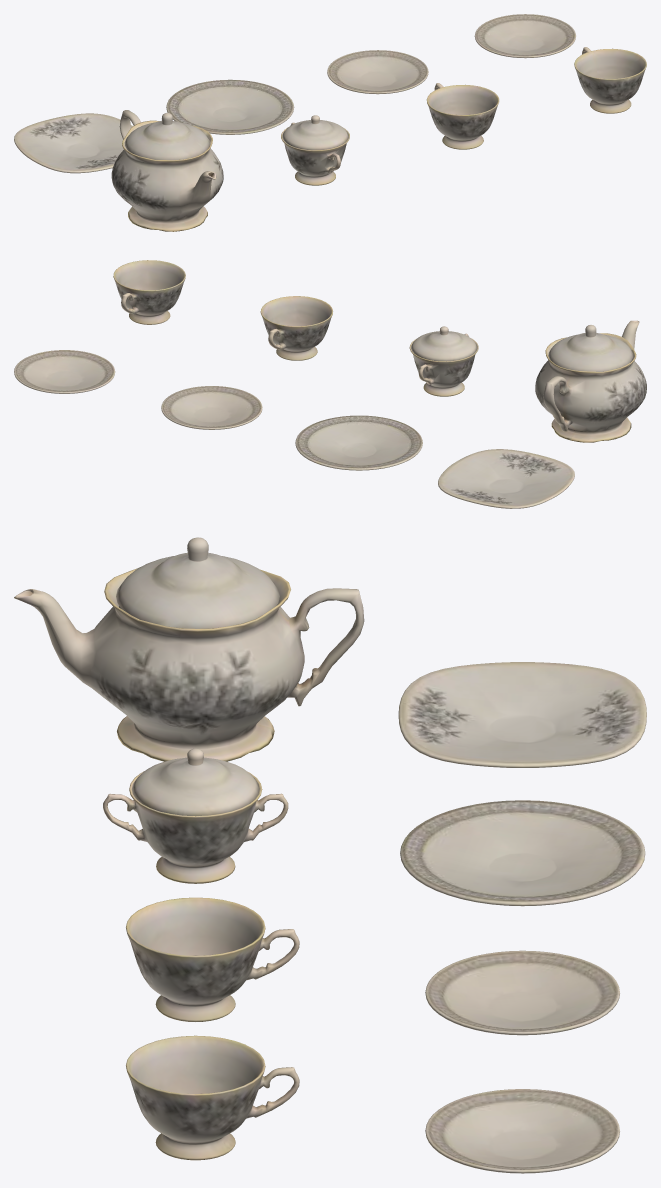
The model's file is tea_set_01.glb.
The picture shows the model from 3 angles, top to bottom: view 1: azimuth 30°, elevation 25°; view 2: azimuth 150°, elevation 25°; view 3: azimuth 270°, elevation 25°; orthographic projection. The views are drawn at different scales.
Visible parts, largest first — view 1: tea_set_01_teapot_01, tea_set_01_plate_large_circular_03, tea_set_01_plate_large_square_01, tea_set_01_cup_small_01, tea_set_01_cup_small_02, tea_set_01_saucer_circular_04, tea_set_01_saucer_circular_03, tea_set_01_teapot_01_lid, tea_set_01_sugar_cup_01, tea_set_01_sugar_cup_01_lid; view 2: tea_set_01_teapot_01, tea_set_01_plate_large_square_01, tea_set_01_plate_large_circular_03, tea_set_01_cup_small_02, tea_set_01_cup_small_01, tea_set_01_saucer_circular_04, tea_set_01_saucer_circular_03, tea_set_01_teapot_01_lid, tea_set_01_sugar_cup_01, tea_set_01_sugar_cup_01_lid; view 3: tea_set_01_teapot_01, tea_set_01_plate_large_square_01, tea_set_01_plate_large_circular_03, tea_set_01_cup_small_01, tea_set_01_cup_small_02, tea_set_01_saucer_circular_03, tea_set_01_saucer_circular_04, tea_set_01_teapot_01_lid, tea_set_01_sugar_cup_01, tea_set_01_sugar_cup_01_lid.
Part boxes in pixels (bbox=[...]): tea_set_01_teapot_01: bbox=[111, 110, 223, 231]; tea_set_01_plate_large_circular_03: bbox=[166, 79, 294, 134]; tea_set_01_plate_large_square_01: bbox=[14, 113, 133, 173]; tea_set_01_cup_small_01: bbox=[426, 83, 499, 149]; tea_set_01_cup_small_02: bbox=[574, 47, 646, 113]; tea_set_01_saucer_circular_04: bbox=[327, 50, 428, 94]; tea_set_01_saucer_circular_03: bbox=[474, 14, 575, 58]; tea_set_01_teapot_01_lid: bbox=[124, 112, 209, 160]; tea_set_01_sugar_cup_01: bbox=[281, 122, 349, 185]; tea_set_01_sugar_cup_01_lid: bbox=[282, 115, 348, 150]; tea_set_01_teapot_01: bbox=[535, 320, 646, 442]; tea_set_01_plate_large_square_01: bbox=[438, 449, 574, 508]; tea_set_01_plate_large_circular_03: bbox=[295, 415, 422, 470]; tea_set_01_cup_small_02: bbox=[113, 260, 185, 324]; tea_set_01_cup_small_01: bbox=[260, 296, 332, 360]; tea_set_01_saucer_circular_04: bbox=[161, 386, 262, 429]; tea_set_01_saucer_circular_03: bbox=[14, 350, 115, 393]; tea_set_01_teapot_01_lid: bbox=[548, 325, 633, 371]; tea_set_01_sugar_cup_01: bbox=[409, 333, 478, 396]; tea_set_01_sugar_cup_01_lid: bbox=[411, 326, 477, 361]; tea_set_01_teapot_01: bbox=[14, 568, 364, 761]; tea_set_01_plate_large_square_01: bbox=[398, 662, 646, 767]; tea_set_01_plate_large_circular_03: bbox=[400, 800, 645, 906]; tea_set_01_cup_small_01: bbox=[126, 897, 299, 1021]; tea_set_01_cup_small_02: bbox=[126, 1035, 299, 1160]; tea_set_01_saucer_circular_03: bbox=[425, 1089, 619, 1173]; tea_set_01_saucer_circular_04: bbox=[425, 950, 619, 1035]; tea_set_01_teapot_01_lid: bbox=[116, 537, 279, 628]; tea_set_01_sugar_cup_01: bbox=[103, 771, 288, 883]; tea_set_01_sugar_cup_01_lid: bbox=[131, 748, 259, 816].
Size of the model in its own units: 0.9185 by 0.165 by 0.4839.
Materials: 1 (1 with a texture image).
